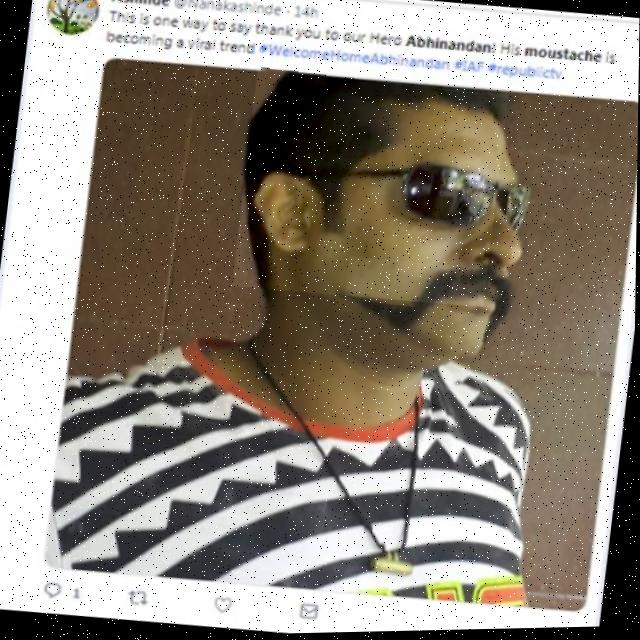beard: (347, 269, 513, 345)
hair: (244, 72, 506, 290)
